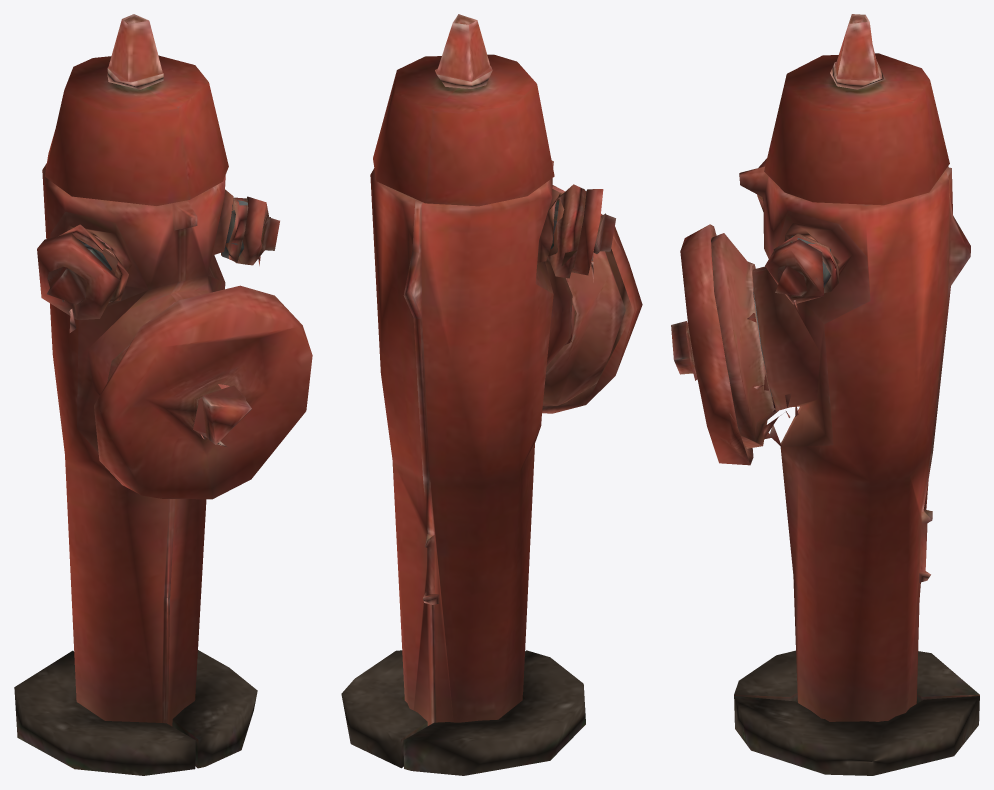
Rendered from hydrant.glb.
3 views of the same model, side by side, from view 1: azimuth 30°, elevation 25°; view 2: azimuth 150°, elevation 25°; view 3: azimuth 270°, elevation 25° (orthographic).
Parts seen in each view (by area): view 1: fire_hydrant; view 2: fire_hydrant; view 3: fire_hydrant.
Part boxes in pixels (x1,y1,x2,y2): fire_hydrant: (14, 14, 312, 775); fire_hydrant: (341, 14, 642, 775); fire_hydrant: (671, 14, 979, 775).
Bounding box in the file's own units: 0.2729 × 0.7992 × 0.3173.
1 material, 1 textured.
